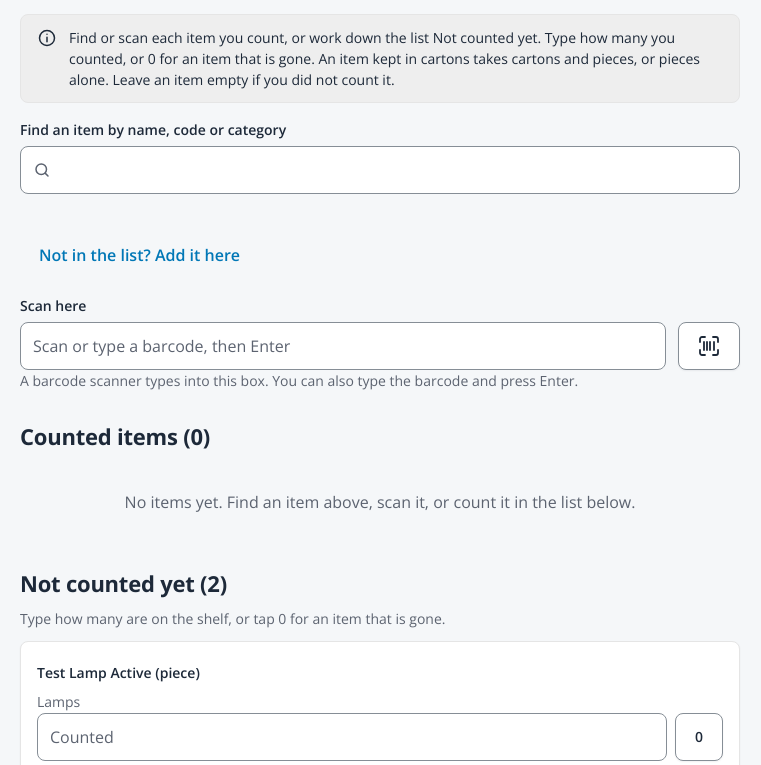
Test case: counting the sheet › puts a picked item at the head of the list, marked, clears and closes the search and puts the cursor in its count box
This screenshot has width=761, height=765.
Expected: the text "No items yet. Find an item above, scan it, or count it in the list below." is shown, [125,491,635,513]
In the dropdown labelled "Find an item by name, code or category": (380,170) [20,146,740,194], type "held"
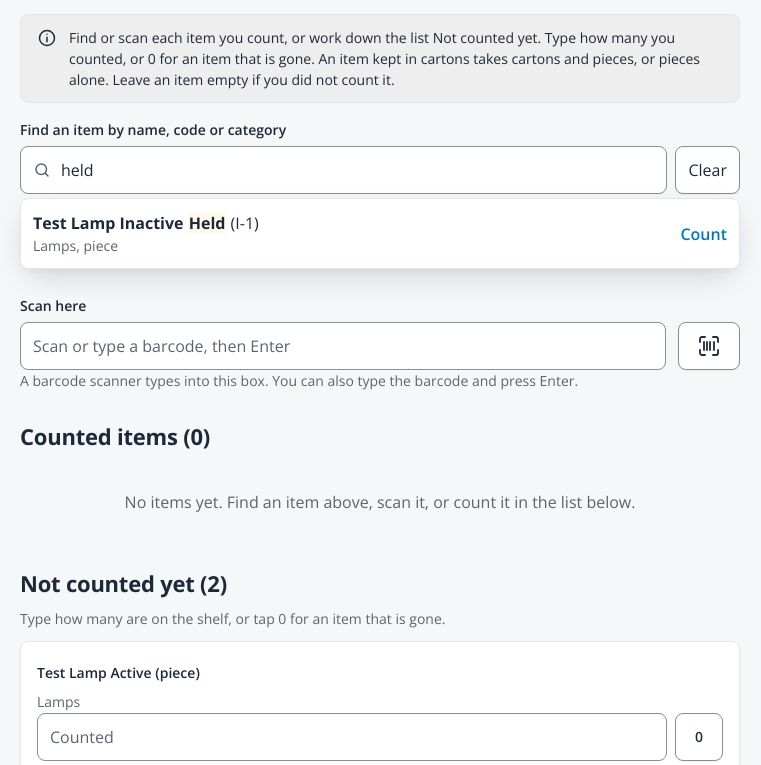
Click the option "Test Lamp Inactive Held (I-1) Lamps, piece Count": (110,223) [21,203,739,264]
(page scrolled)
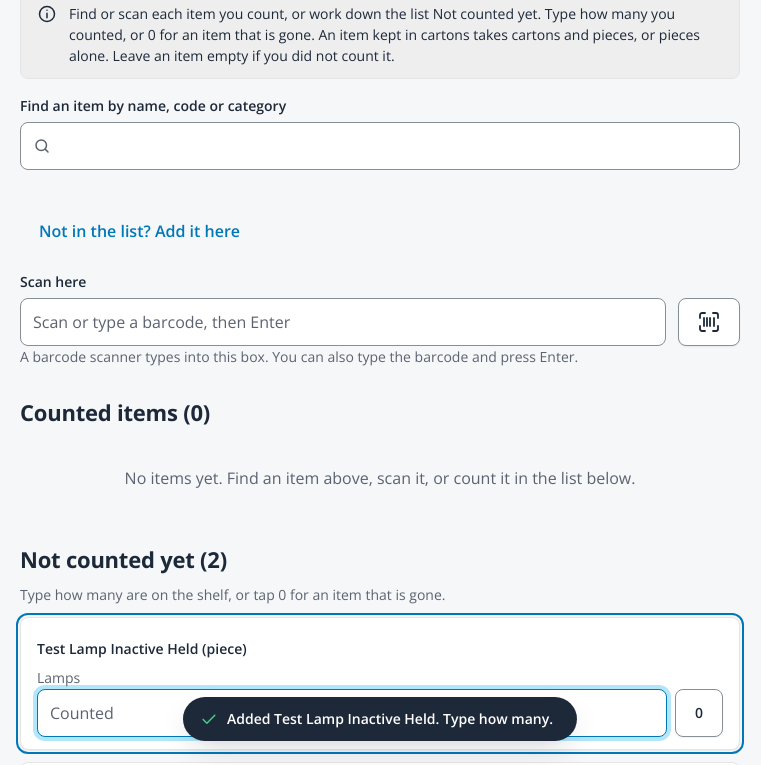
Expected: the dropdown labelled "Find an item by name, code or category" is empty, [20,122,740,170]
Expected: the list is gone
